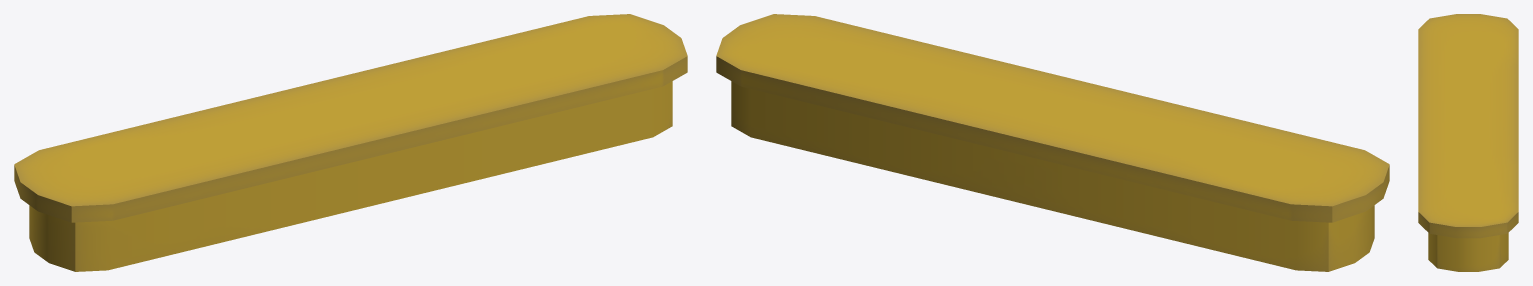
Rendered from cash_counter.fbx.
3 renders of one model, left to right at view 1: azimuth 30°, elevation 25°; view 2: azimuth 150°, elevation 25°; view 3: azimuth 270°, elevation 25°, orthographic. The views are drawn at different scales.
Visible parts, largest first — view 1: cash_counter; view 2: cash_counter; view 3: cash_counter.
Part boxes in pixels (left/top/right/bottom): cash_counter: left=14, top=14, right=687, bottom=271; cash_counter: left=716, top=14, right=1389, bottom=271; cash_counter: left=1418, top=14, right=1518, bottom=271.
Bounding box in the file's own units: 2907 × 311 × 578.
